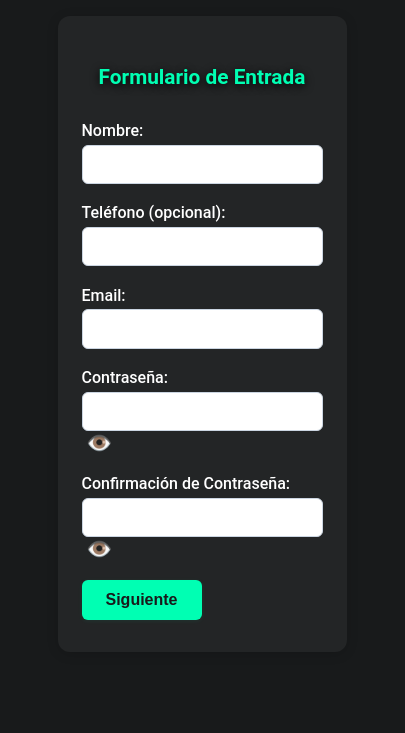
Scenario: en el FormularioEntrada › muestra error si el nombre está vacío
The width and height of the screenshot is (405, 733).
Click the button "Siguiente".
click(142, 600)  # box [82,580,202,620]
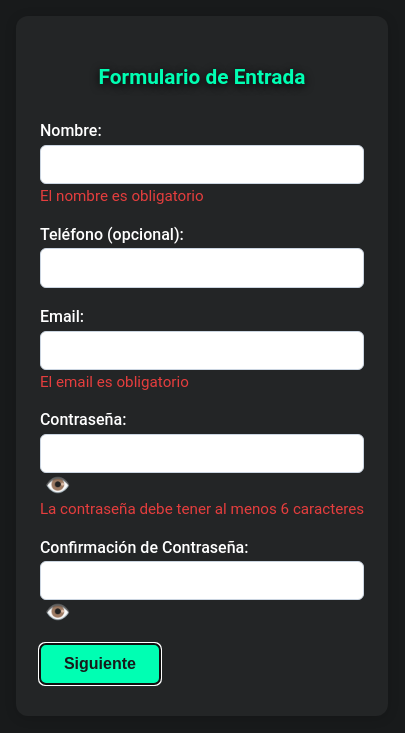
Expected: the text "El nombre es obligatorio" is shown, [40,187,204,205]
